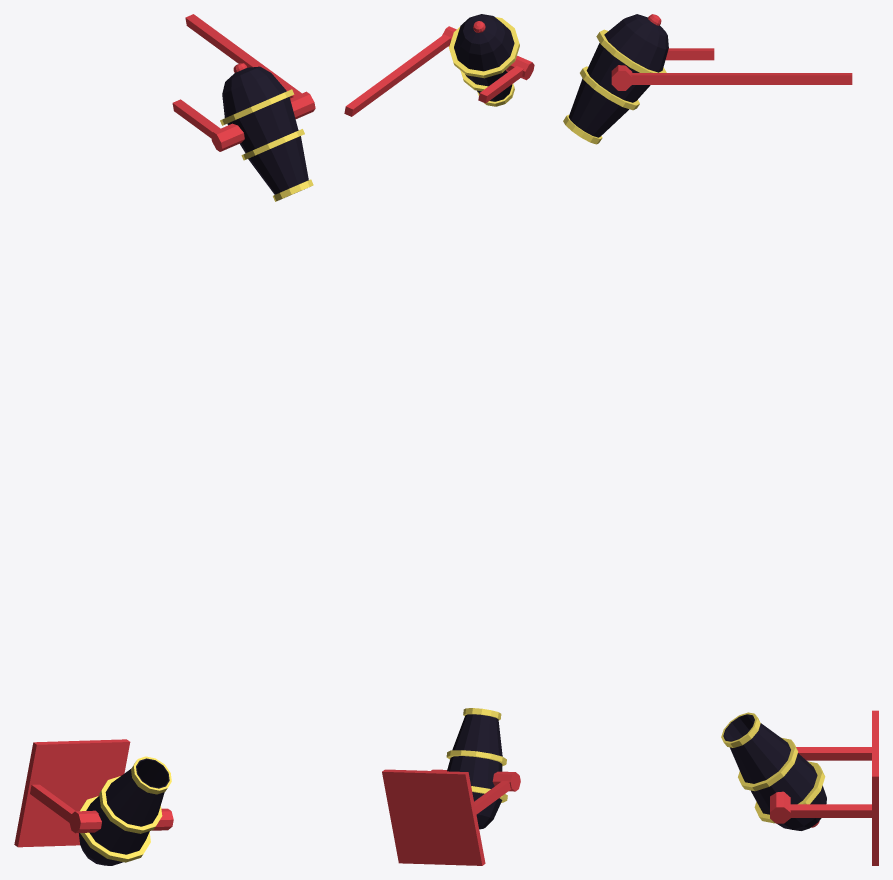
The model's file is cannon.glb.
The picture shows the model from 3 angles, left to right: view 1: azimuth 30°, elevation 25°; view 2: azimuth 150°, elevation 25°; view 3: azimuth 270°, elevation 25°; orthographic projection. The views are drawn at different scales.
Visible parts, largest first — view 1: Cannon 2; view 2: Cannon 2; view 3: Cannon 2.
Boxes of the visible parts, x1,y1,x2,y2 form: Cannon 2: [14, 14, 315, 865]; Cannon 2: [344, 14, 534, 865]; Cannon 2: [563, 14, 878, 865].
Size of the model in its own units: 1.73 by 8.32 by 2.76.
1 material, 1 textured.
